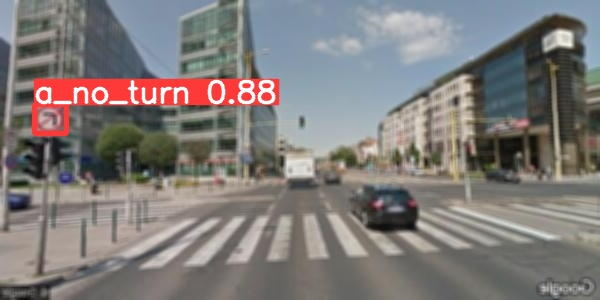a_no_turn: (34, 104, 65, 133)
